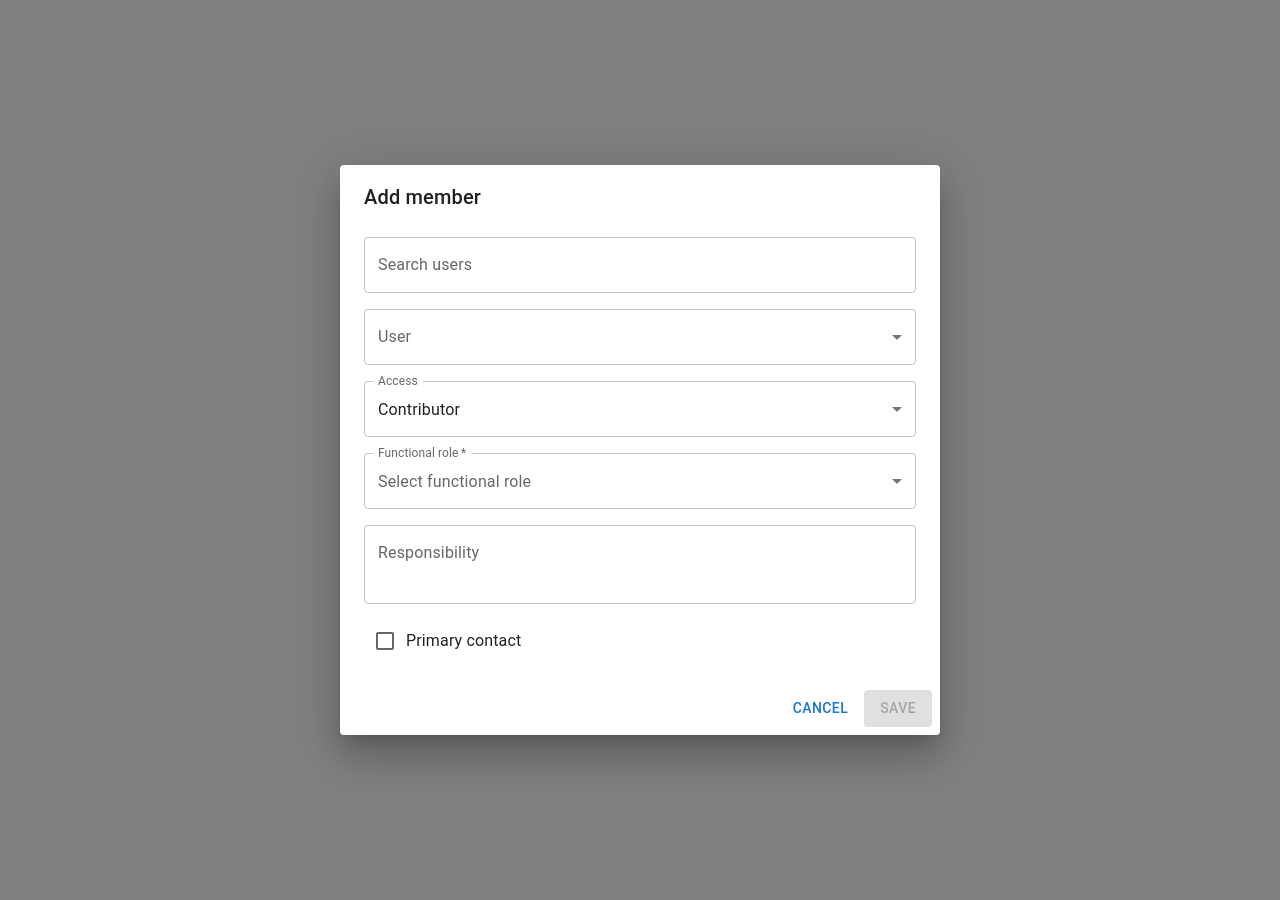
Test: TeamMemberDialog functional role select › does not change functional role when the menu is opened
Click the dropdown labelled "Select functional role" at [455, 481], box top-left (378, 472), bottom-right (531, 491)
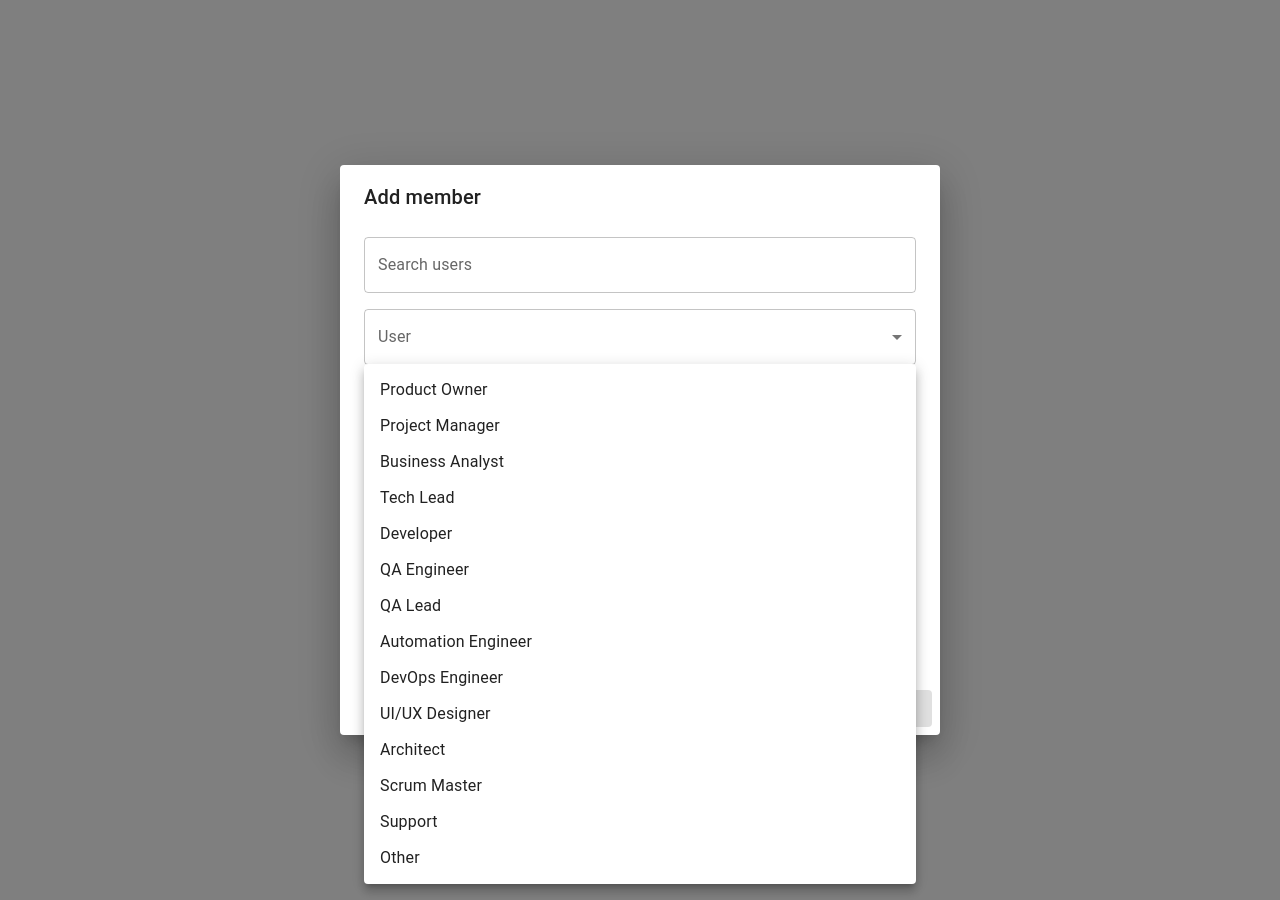
Check: the list is shown, box top-left (380, 380), bottom-right (532, 867)
